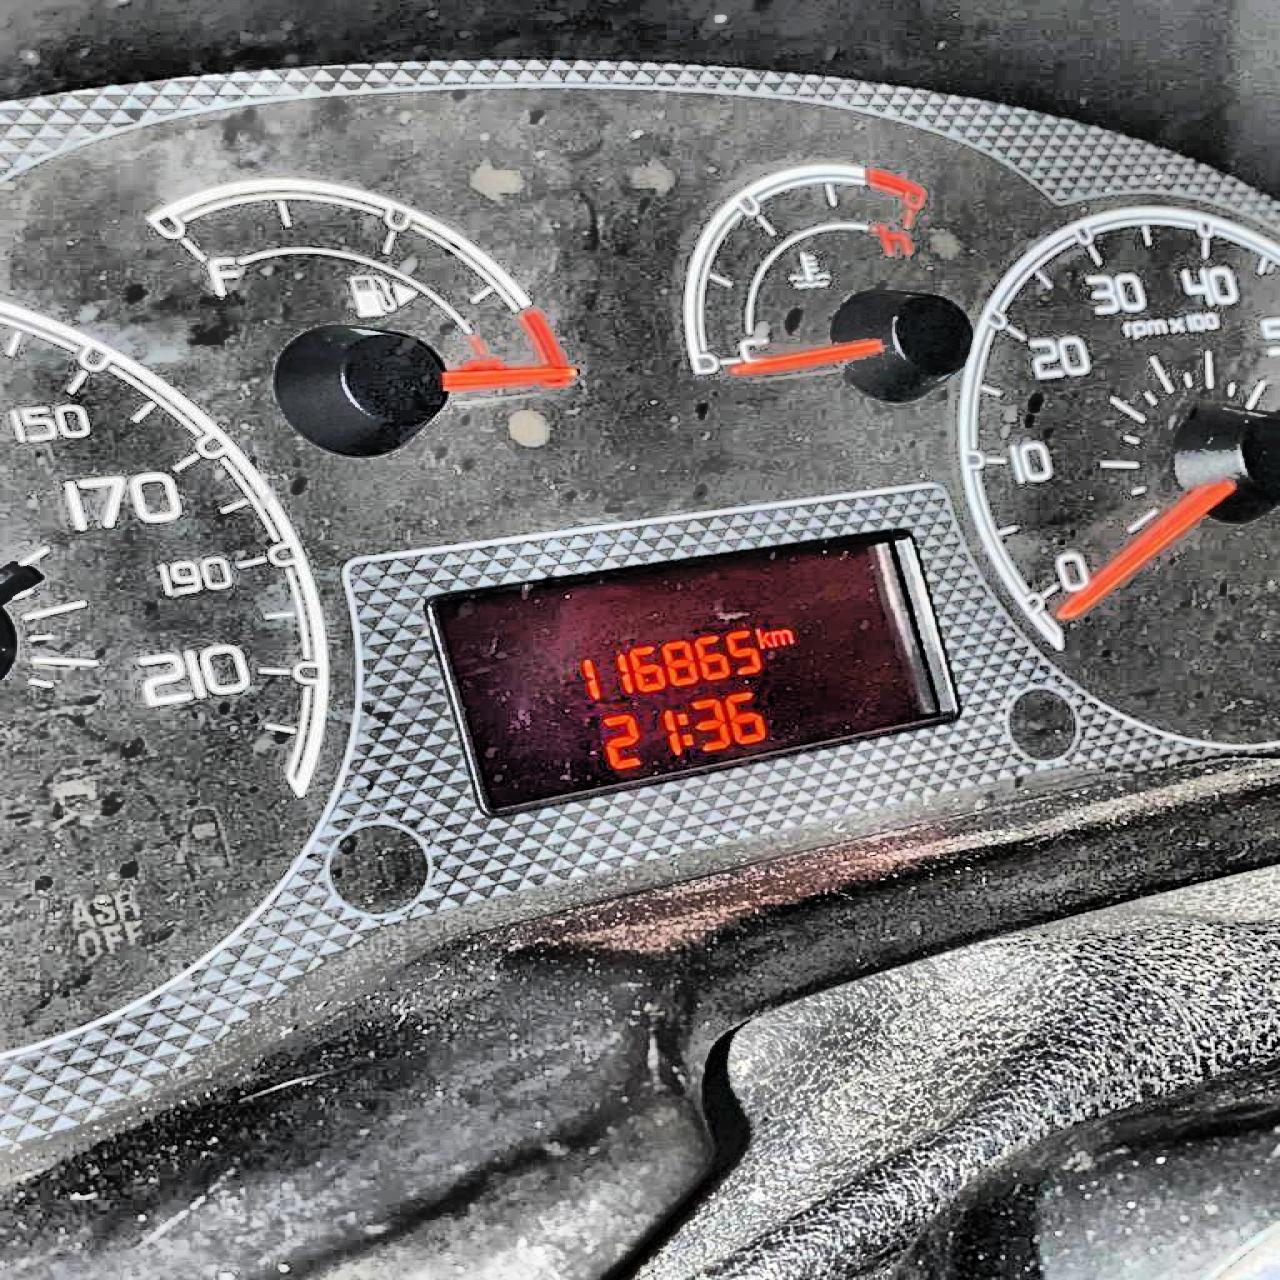1: (659, 708, 680, 757), (580, 655, 600, 700), (613, 651, 632, 694)
2: (600, 714, 641, 769)
3: (690, 697, 730, 750)
5: (726, 628, 760, 674)
6: (723, 692, 767, 744), (628, 645, 665, 696), (693, 633, 730, 679)
8: (660, 639, 695, 686)
X: (675, 710, 695, 748), (755, 625, 770, 651), (771, 627, 794, 645)
odometer: (393, 510, 980, 843)
